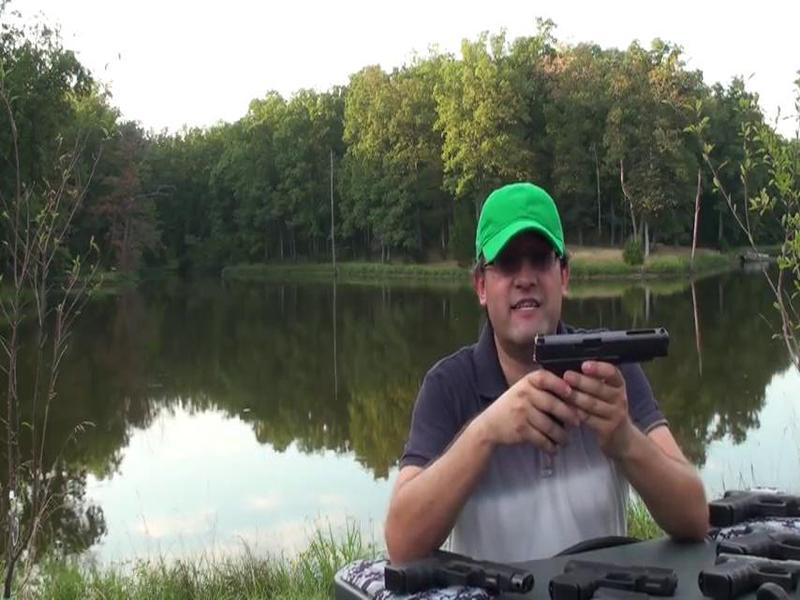Pistola: (379, 540, 537, 598), (527, 325, 681, 381), (548, 549, 676, 600)
